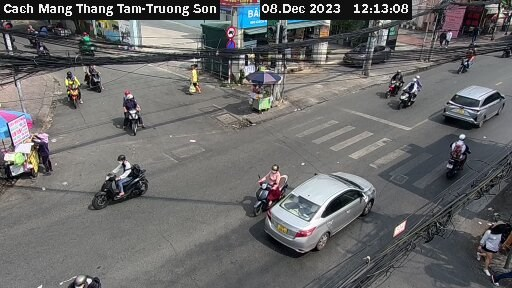car: (259, 170, 380, 251), (435, 78, 500, 127)
motorbike: (89, 160, 152, 206), (245, 159, 288, 207), (436, 136, 479, 179), (116, 92, 161, 132), (79, 59, 110, 96), (395, 79, 431, 106), (450, 42, 484, 69), (55, 70, 82, 103), (380, 67, 405, 99)
